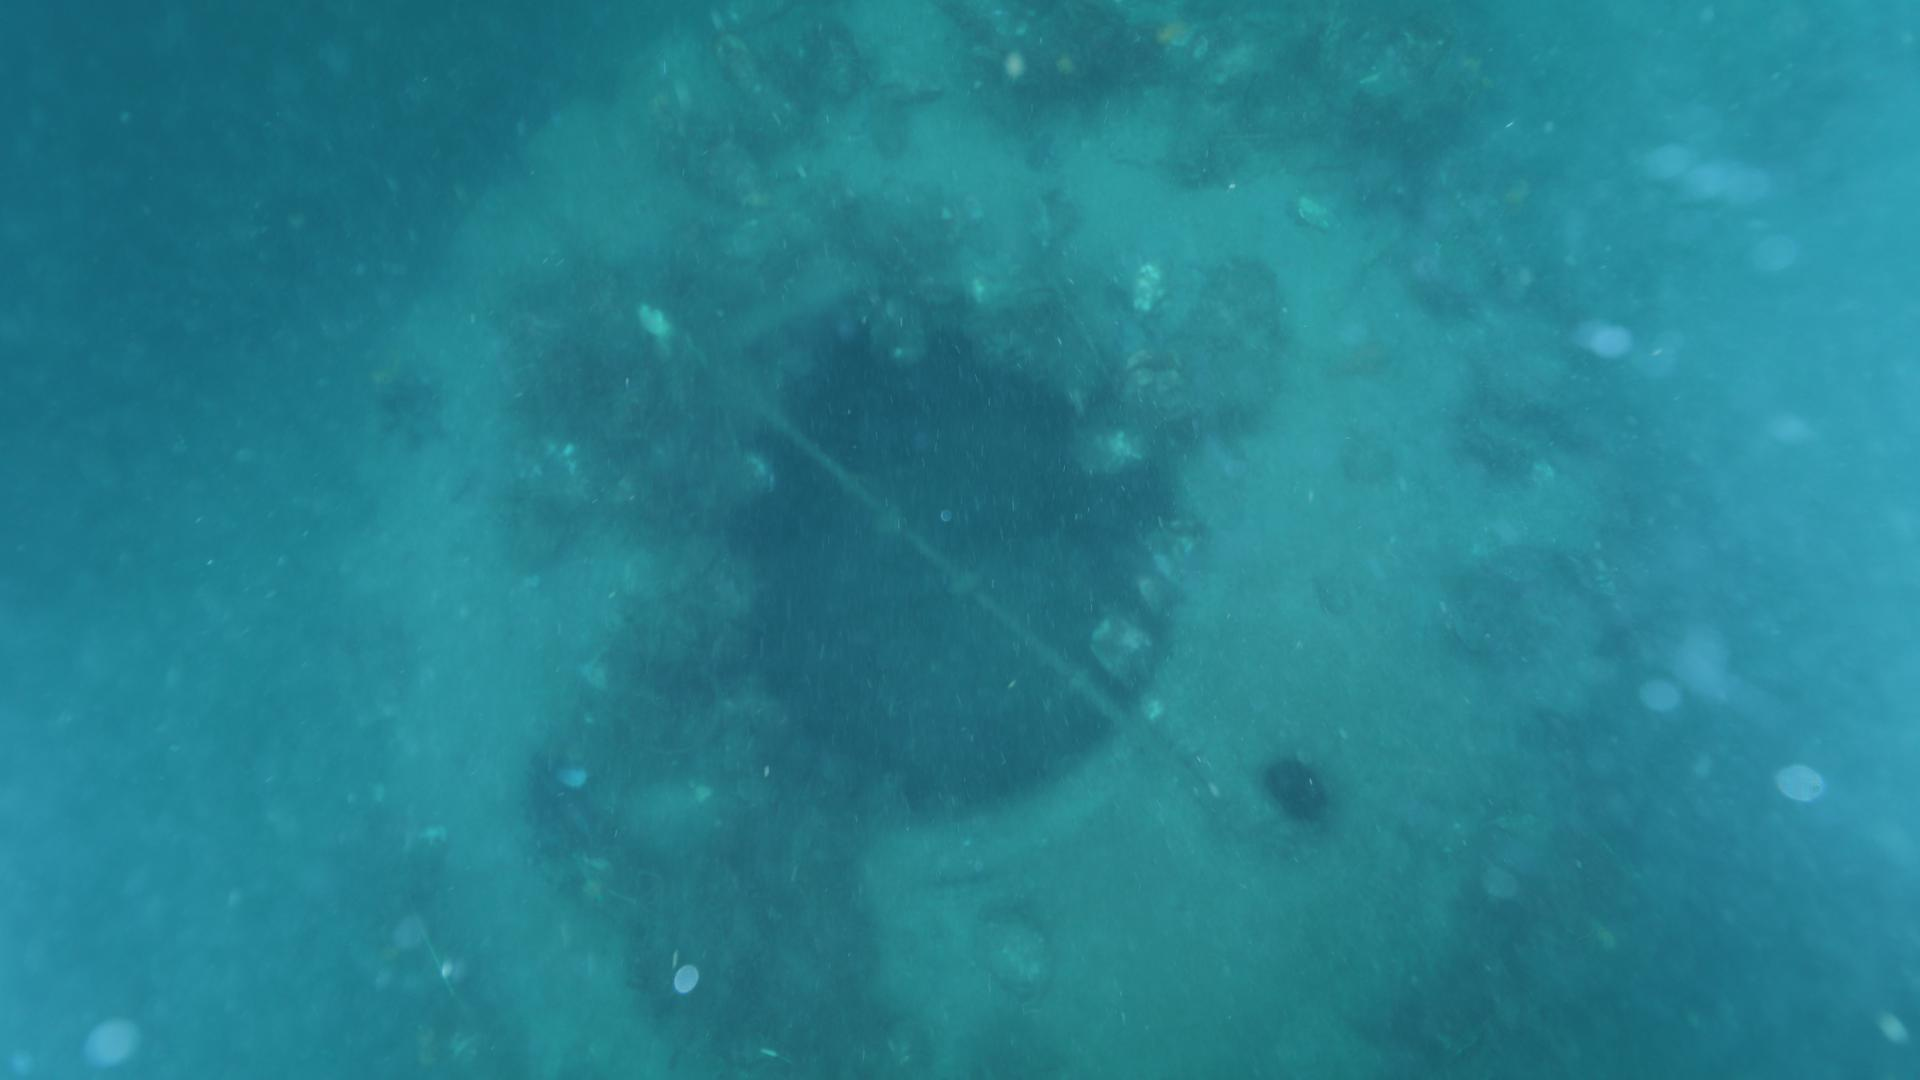tire: (344, 0, 1614, 1080)
